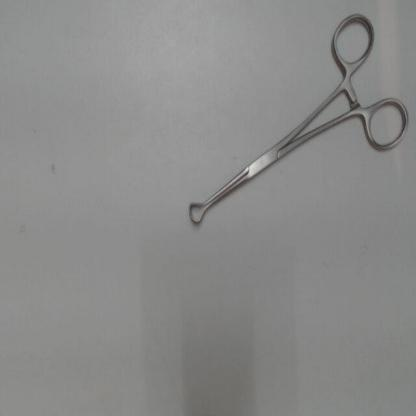Babcock Tissue Forceps: (181, 8, 412, 230)
